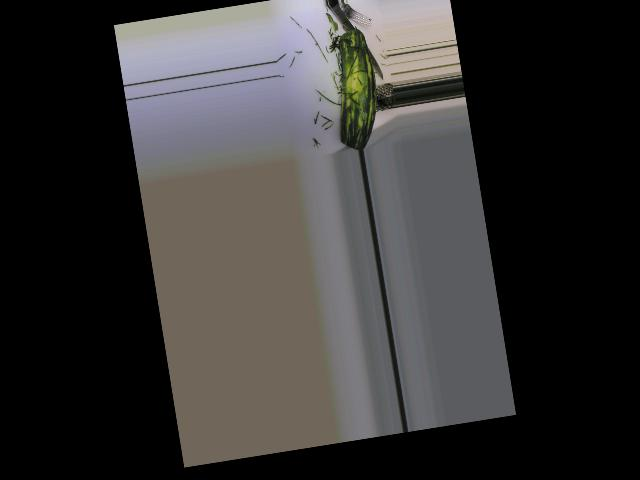cucumber: (323, 26, 385, 152)
